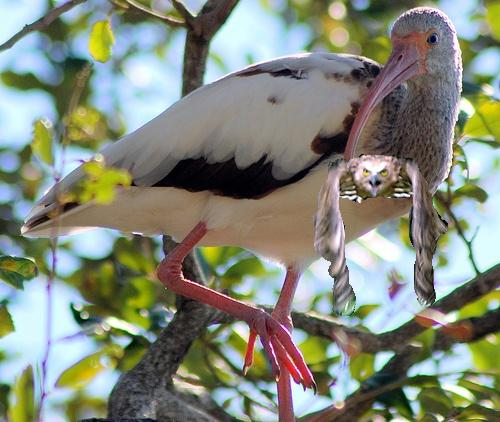tampered: (314, 155, 448, 316)
